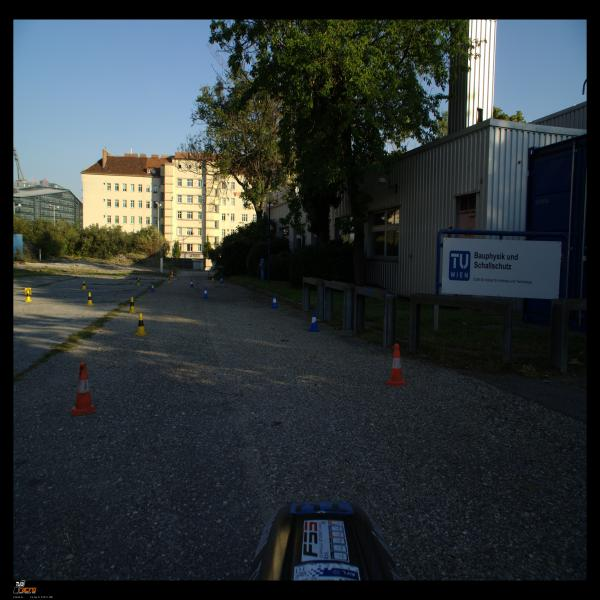blue_cone: (308, 311, 320, 332), (271, 294, 279, 308), (202, 287, 209, 298), (150, 282, 156, 292), (190, 280, 194, 288), (220, 277, 223, 283)
large_orange_cone: (207, 270, 211, 279), (172, 270, 174, 279)
orange_cone: (70, 362, 96, 415), (384, 343, 409, 387)
yellow_cone: (133, 313, 148, 336), (128, 297, 138, 313), (85, 292, 95, 306), (24, 290, 32, 301), (24, 288, 32, 296), (81, 281, 87, 289), (167, 276, 172, 284), (136, 278, 140, 286), (170, 275, 173, 281), (212, 275, 214, 281)
